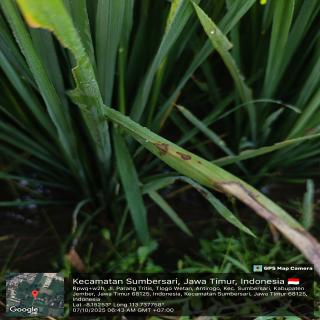Blast: (212, 181, 319, 267), (152, 140, 171, 158), (175, 150, 196, 163)
